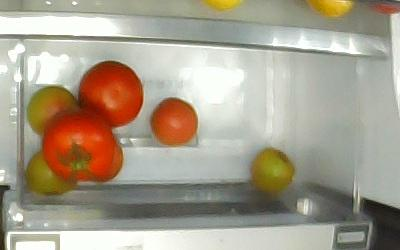tomato: (42, 109, 115, 185), (78, 60, 143, 128), (27, 86, 78, 136), (25, 150, 77, 196), (150, 97, 198, 146), (251, 148, 295, 195)
